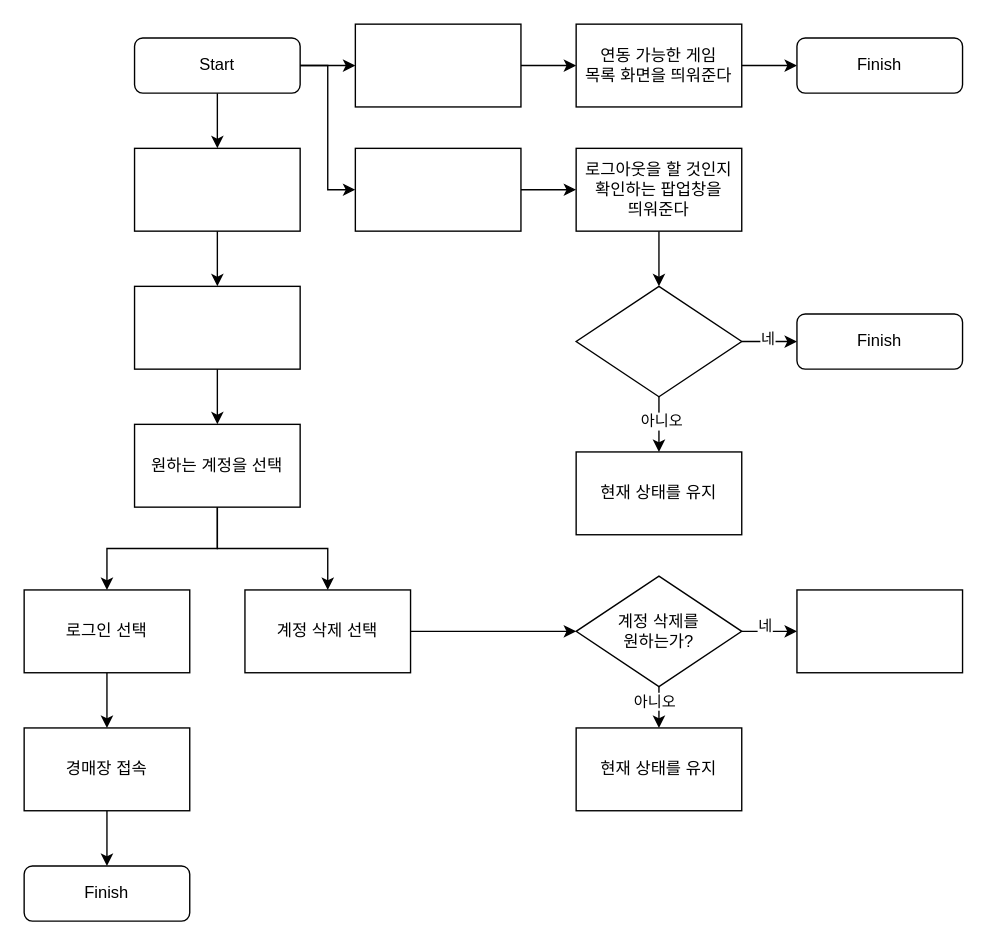
Image size: 987x945. Some labels were removed from this diagram. The shapes that lost their labels are listed below. From the top down, each one's centre as x and y in pixels, then its label:
At pixel 437 65: "계정 추가 버튼을 눌렀다면".
At pixel 216 189: "DB로부터 데이터를 가져온다".
At pixel 437 189: "뒤로가기 버튼을 눌렀다면".
At pixel 216 327: "리스트뷰에 데이터를 띄워준다".
At pixel 658 341: "로그아웃을 원하는가?".
At pixel 879 631: "해당 계정 삭제".
